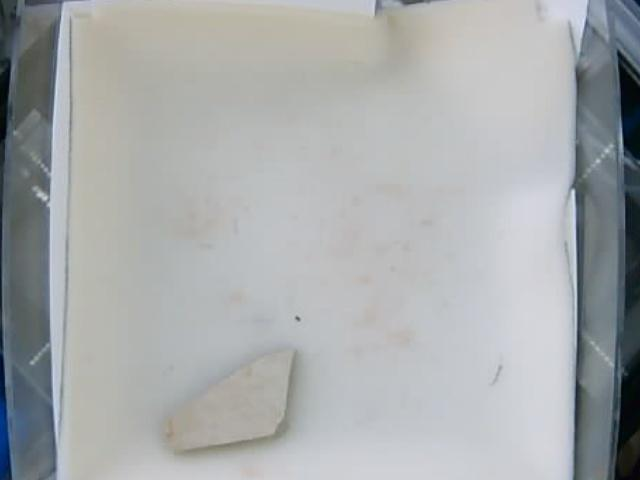China: (167, 347, 291, 449)
